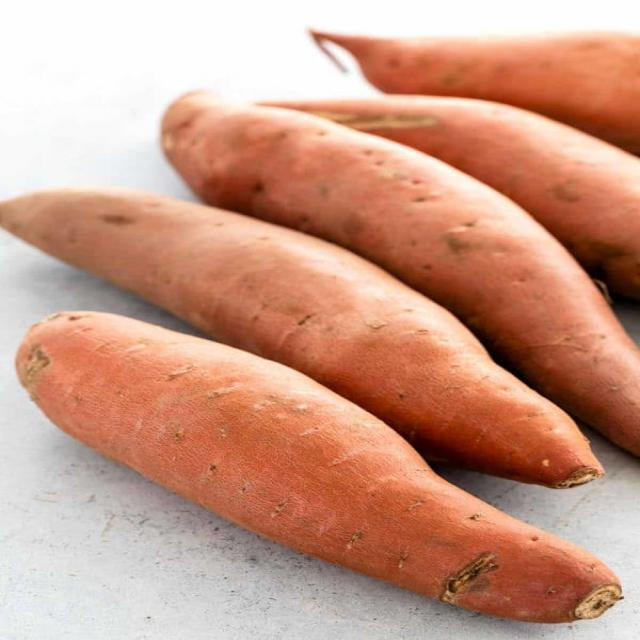Sweet Potato: (0, 314, 313, 542), (328, 421, 625, 636), (4, 173, 395, 323), (160, 84, 454, 264)
